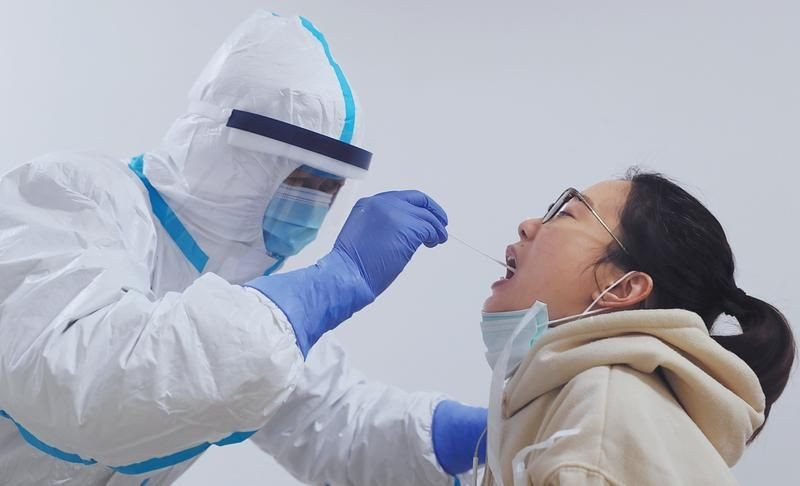Coverall: (1, 4, 433, 486)
Face_Shield: (206, 117, 388, 308)
Gloves: (264, 185, 453, 353)
mask_weared_incorrect: (479, 179, 617, 386)
with_mask: (258, 162, 339, 263)
